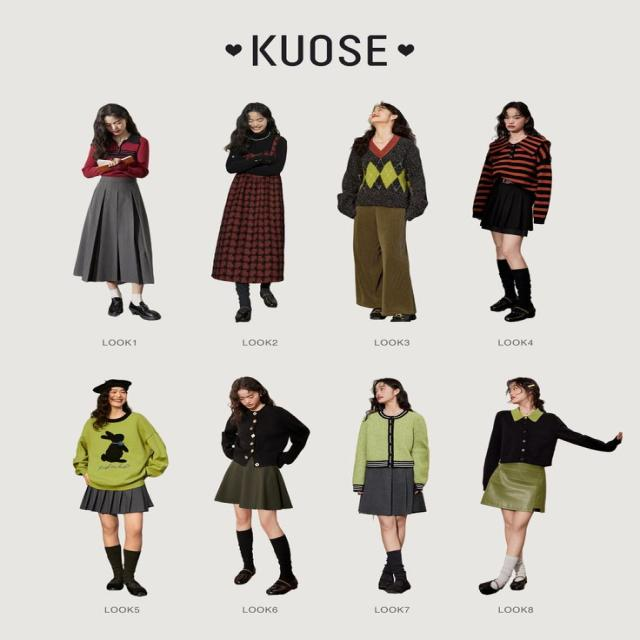person: (478, 376, 622, 595), (213, 376, 310, 594), (72, 379, 169, 596), (336, 100, 428, 322), (72, 102, 161, 321), (471, 101, 552, 322), (351, 377, 430, 593), (210, 102, 287, 322)
